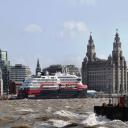cruises: (20, 67, 90, 103)
